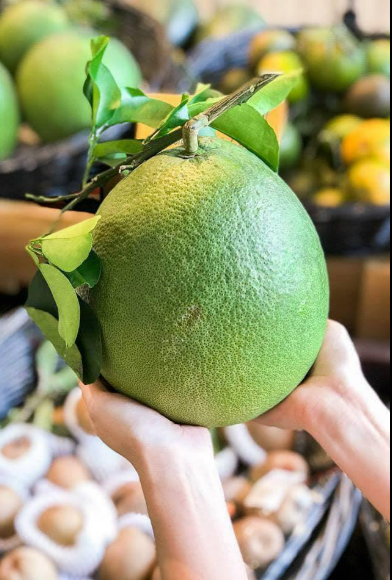buoi: (46, 108, 334, 434)
